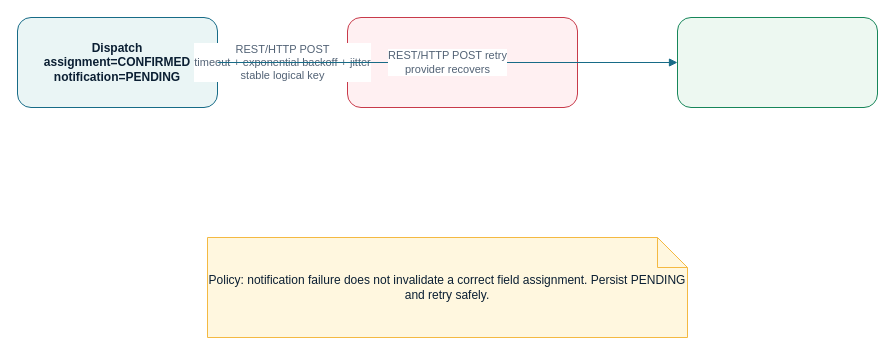
This 895x355 diagram has some shape labels left out. The shapes that lost their labels are listed below. From the top down, each one's centre as x and y in pixels, then its label:
point (462, 62): Notification mock FAIL / SLOW / COMMIT_THEN_SLOW
point (777, 62): Retry notification endpoint state becomes SENT
